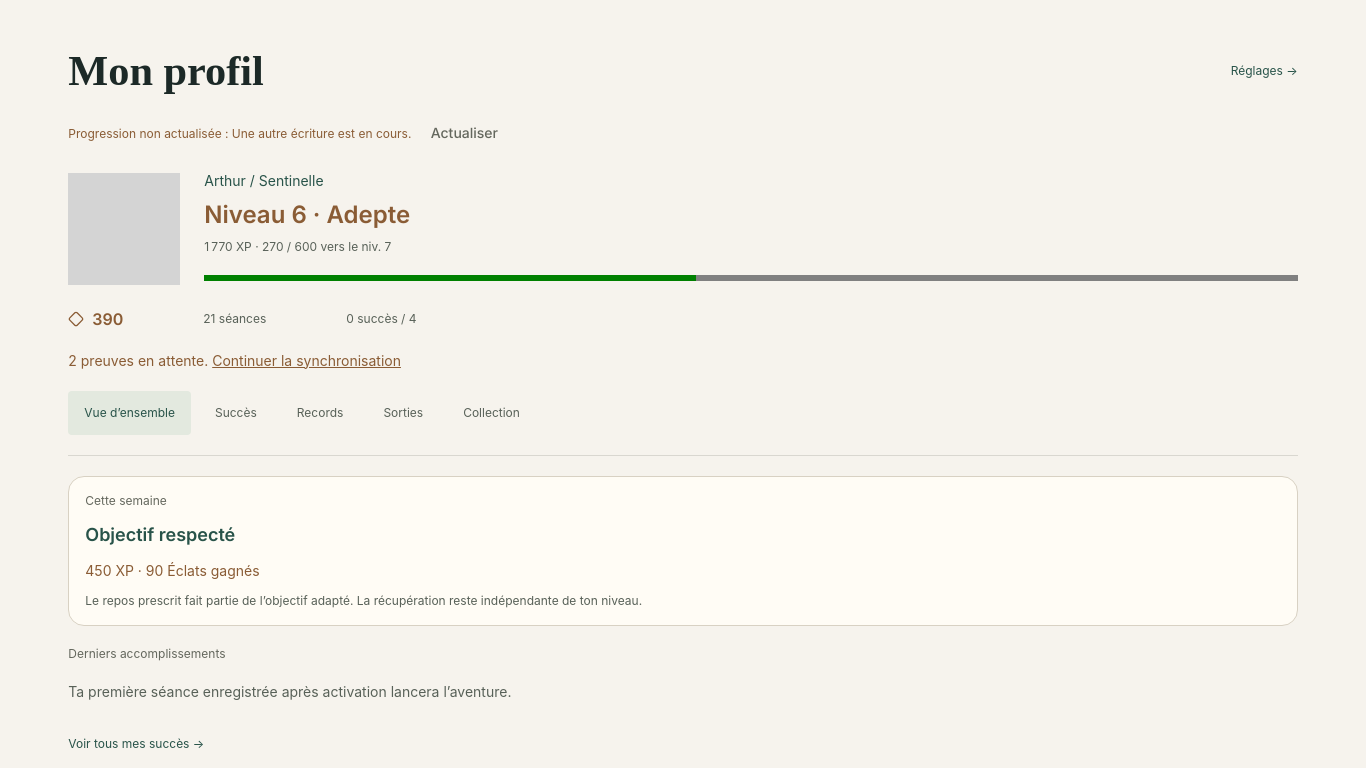
Scenario: shows a failed projection over the snapshot and retries it only on a click
This screenshot has width=1366, height=768.
Expected: the text "Progression non actualisée : Une autre écriture est en cours. Actualiser" is shown, [68,115,514,151]
Expected: the heading "Niveau 6 · Adepte" is shown, [204,200,410,229]
Click the button "Actualiser": [464, 133] box [415,115,514,151]
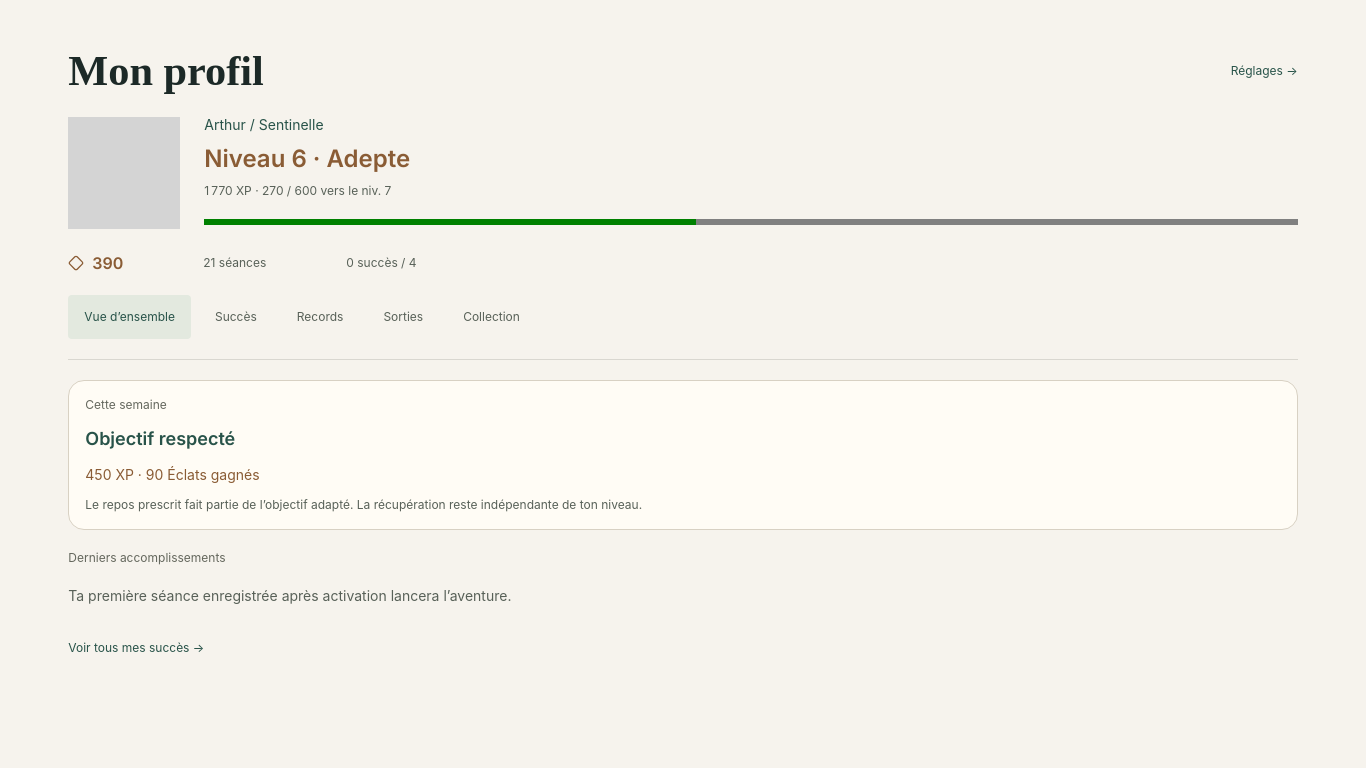
Expected: the text "Progression non actualisée" is gone
